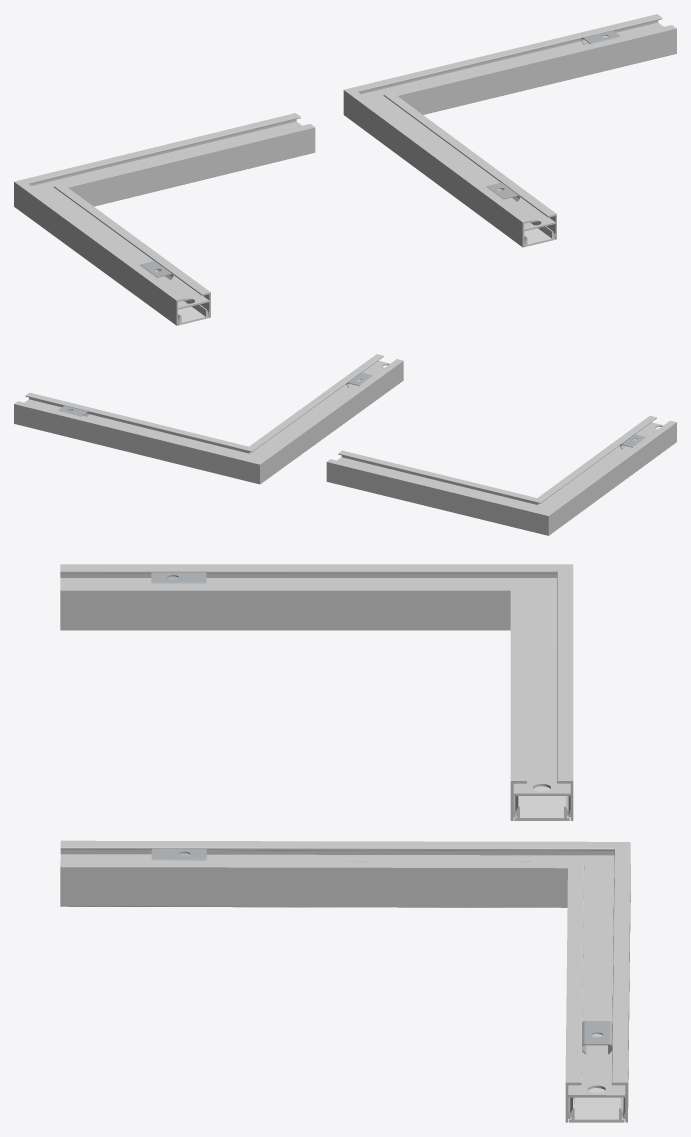
File: Fit25Plafon-curva-direita-esquerda.glb
3 renders of one model, top to bottom at view 1: azimuth 30°, elevation 25°; view 2: azimuth 150°, elevation 25°; view 3: azimuth 270°, elevation 25°, orthographic. The views are drawn at different scales.
Visible parts, largest first — view 1: 3DGeom-1, 3DGeom-8, 3DGeom-2, 3DGeom-7, 3DGeom-10, 3DGeom-6; view 2: 3DGeom-1, 3DGeom-8, 3DGeom-2, 3DGeom-7; view 3: 3DGeom-2, 3DGeom-7, 3DGeom-1, 3DGeom-8, 3DGeom-5, 3DGeom-11, 3DGeom-3.
Boxes of the visible parts, box(x1,y1,x2,y2) form: 3DGeom-1: box(344, 14, 676, 114); 3DGeom-8: box(15, 113, 315, 206); 3DGeom-2: box(343, 90, 556, 247); 3DGeom-7: box(14, 181, 210, 325); 3DGeom-10: box(178, 300, 208, 325); 3DGeom-6: box(524, 222, 554, 246); 3DGeom-1: box(14, 392, 259, 484); 3DGeom-8: box(326, 450, 548, 535); 3DGeom-2: box(249, 354, 403, 484); 3DGeom-7: box(537, 415, 676, 535); 3DGeom-2: box(60, 840, 629, 907); 3DGeom-7: box(60, 564, 572, 630); 3DGeom-1: box(565, 842, 630, 1122); 3DGeom-8: box(510, 564, 573, 820); 3DGeom-5: box(569, 1088, 624, 1122); 3DGeom-11: box(514, 786, 569, 820); 3DGeom-3: box(582, 1021, 612, 1054).
Bounding box in the file's own units: 0.5278 × 0.0241 × 0.2502.
Materials: 2 (1 with a texture image).
